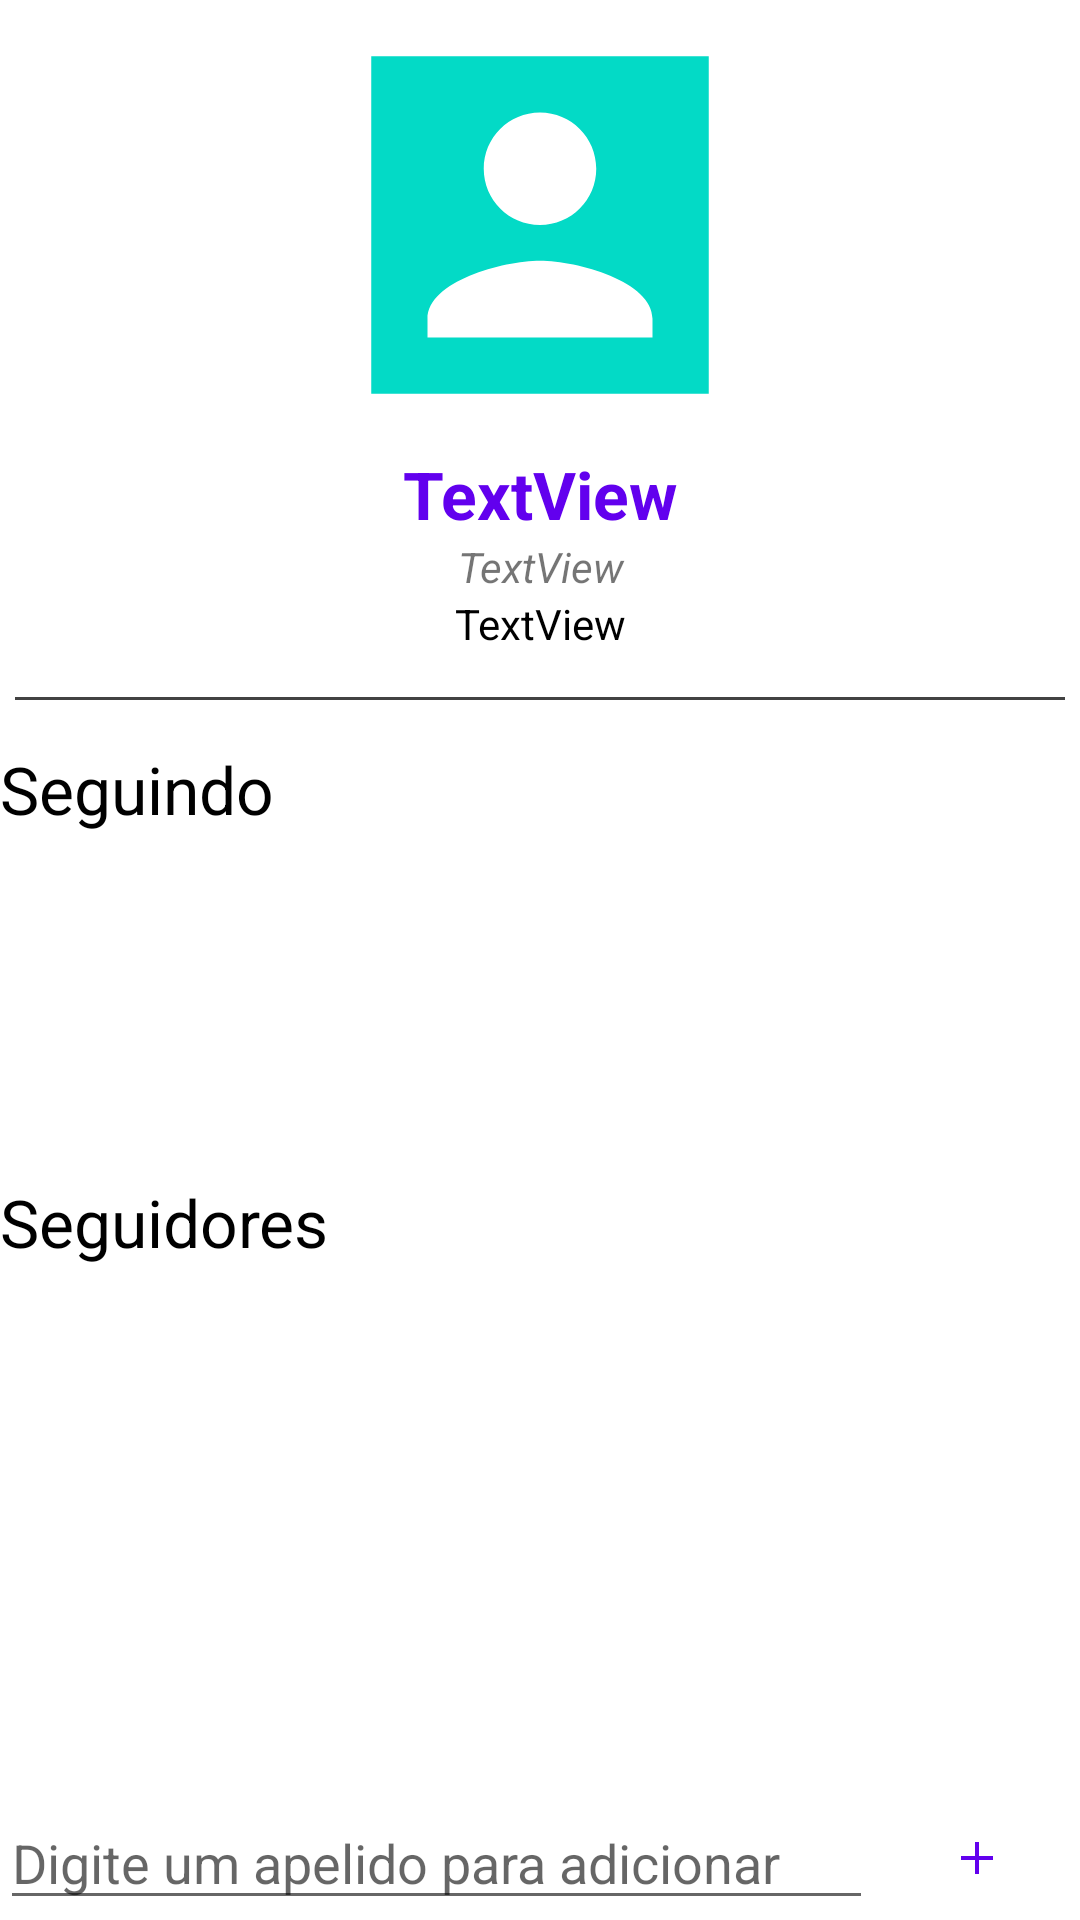

Screen size 1080x1920. Icon name, then its center in pixels as point (x, y):
account box: point (540, 225)
add: point (977, 1858)
